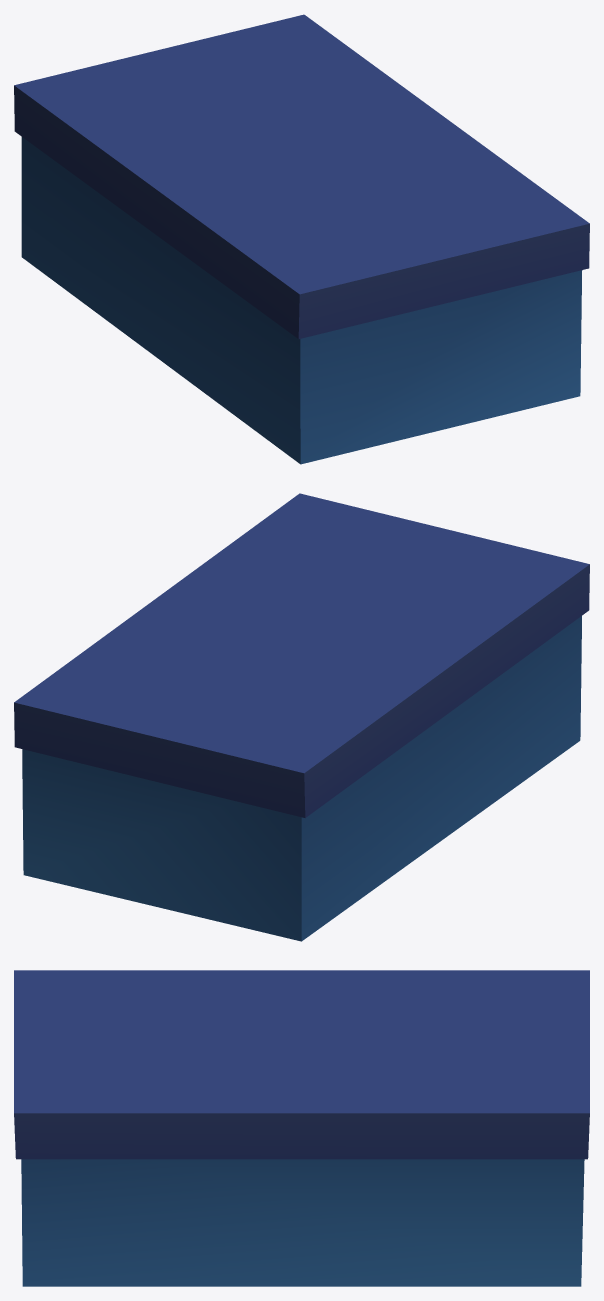
The model's file is human-containers-shoe-box_v1.glb.
3 views of the same model, one above another, from view 1: azimuth 30°, elevation 25°; view 2: azimuth 150°, elevation 25°; view 3: azimuth 270°, elevation 25° (orthographic).
Visible parts, largest first — view 1: Shoe Box; view 2: Shoe Box; view 3: Shoe Box.
Boxes of the visible parts, <box> form: Shoe Box: <box>14,14,589,464</box>; Shoe Box: <box>14,493,589,941</box>; Shoe Box: <box>14,970,589,1286</box>.
Size of the model in its own units: 0.2055 by 0.1179 by 0.35.
